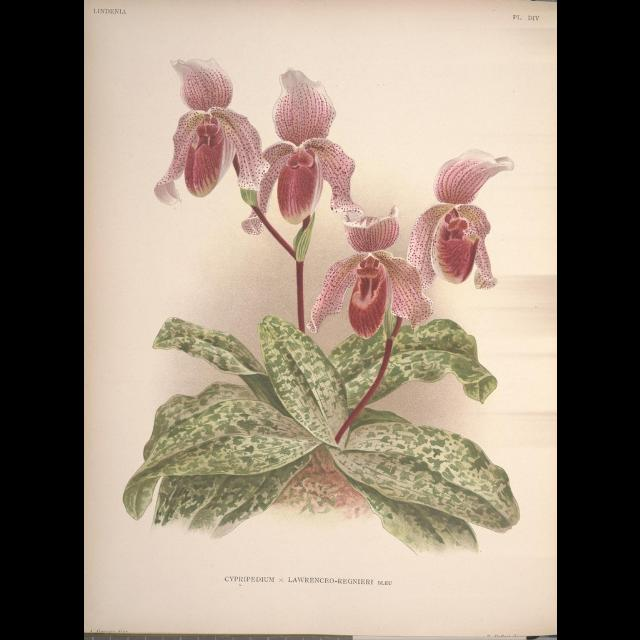Flower: (240, 70, 364, 248), (306, 207, 432, 333), (152, 53, 255, 197), (409, 153, 509, 293)
